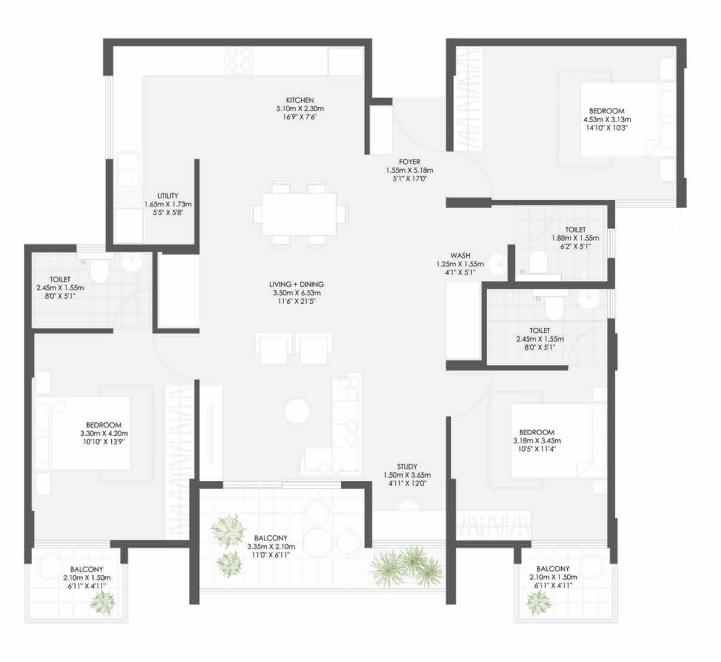Balcony: (199, 489, 366, 587), (516, 547, 615, 617), (28, 548, 123, 620), (366, 543, 448, 590)
Bed: (31, 391, 132, 472), (512, 404, 607, 484), (578, 81, 676, 156)
Bedroom: (455, 50, 680, 199), (34, 336, 188, 544), (449, 371, 607, 543)
Dining Room: (203, 159, 371, 277)
Dining table: (240, 177, 360, 254)
Foyer: (368, 102, 447, 320)
Kitchen: (114, 48, 365, 155)
Living Room: (190, 279, 368, 483)
Sofa: (331, 374, 362, 476), (257, 335, 335, 366), (301, 446, 359, 477), (285, 398, 311, 427)
Wardrobe: (161, 384, 188, 540), (450, 507, 533, 547), (456, 43, 485, 146)
commode: (544, 298, 565, 321), (529, 250, 548, 275), (91, 261, 108, 284)
door: (393, 102, 443, 155), (445, 151, 493, 200), (448, 374, 491, 415), (155, 332, 189, 380)
kitchen-slab: (107, 43, 366, 76), (107, 43, 145, 244)
sink: (114, 168, 141, 206), (579, 288, 600, 312), (121, 255, 142, 273)
stove: (227, 46, 255, 76)
study: (370, 320, 446, 541)
toilet: (28, 253, 154, 328), (488, 290, 612, 366), (508, 208, 611, 288)
tv: (194, 384, 229, 485)
utility: (109, 155, 196, 252)
